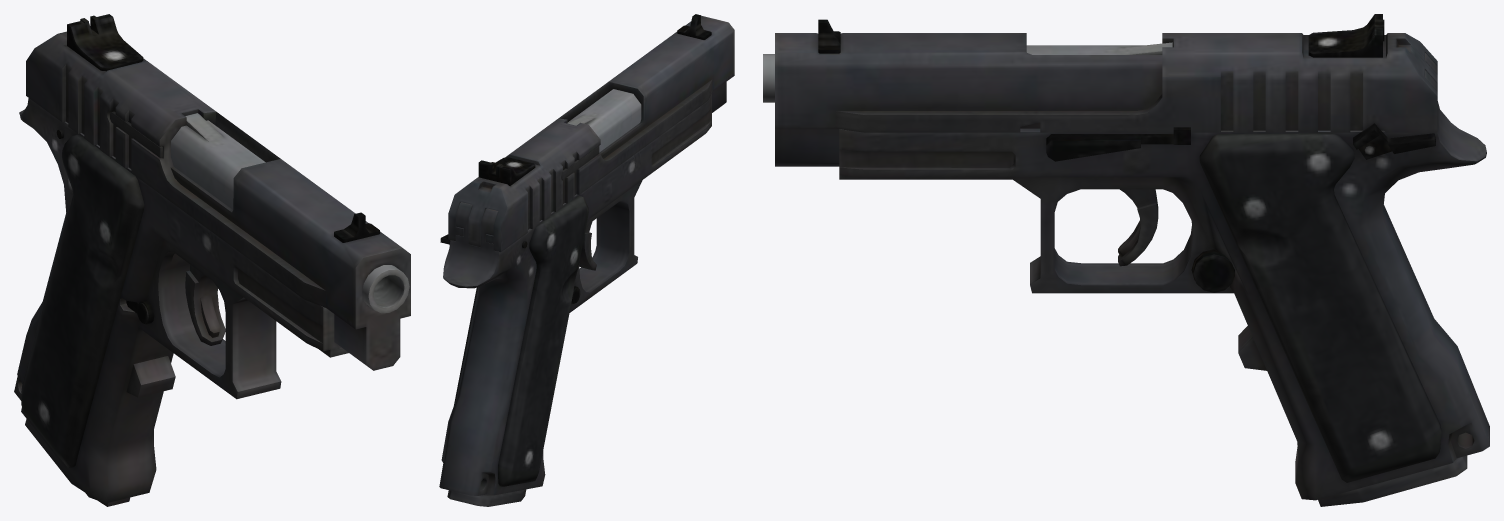
The model's file is Pistol_Kobra.fbx.
3 views of the same model, side by side, from view 1: azimuth 30°, elevation 25°; view 2: azimuth 150°, elevation 25°; view 3: azimuth 270°, elevation 25° (orthographic). The views are drawn at different scales.
Visible parts, largest first — view 1: GunMesh; view 2: GunMesh; view 3: GunMesh.
Part boxes in pixels (left/top/right/bottom): GunMesh: left=14, top=14, right=410, bottom=506; GunMesh: left=439, top=14, right=734, bottom=506; GunMesh: left=763, top=14, right=1489, bottom=506.
Bounding box in the file's own units: 0.0332 × 0.1604 × 0.22.
1 material, 1 textured.
